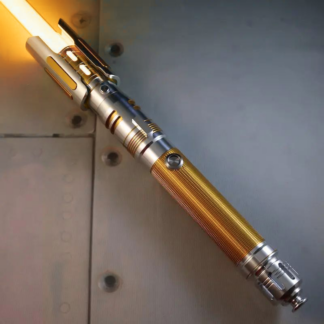lightsaber: (2, 0, 296, 305)
